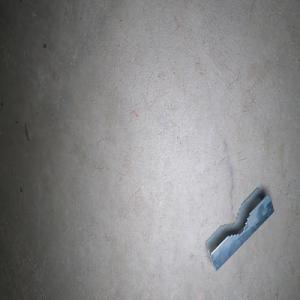ClampPart: (204, 186, 275, 272)
